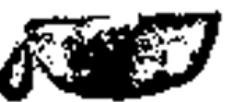Basket: (0, 6, 225, 102)
